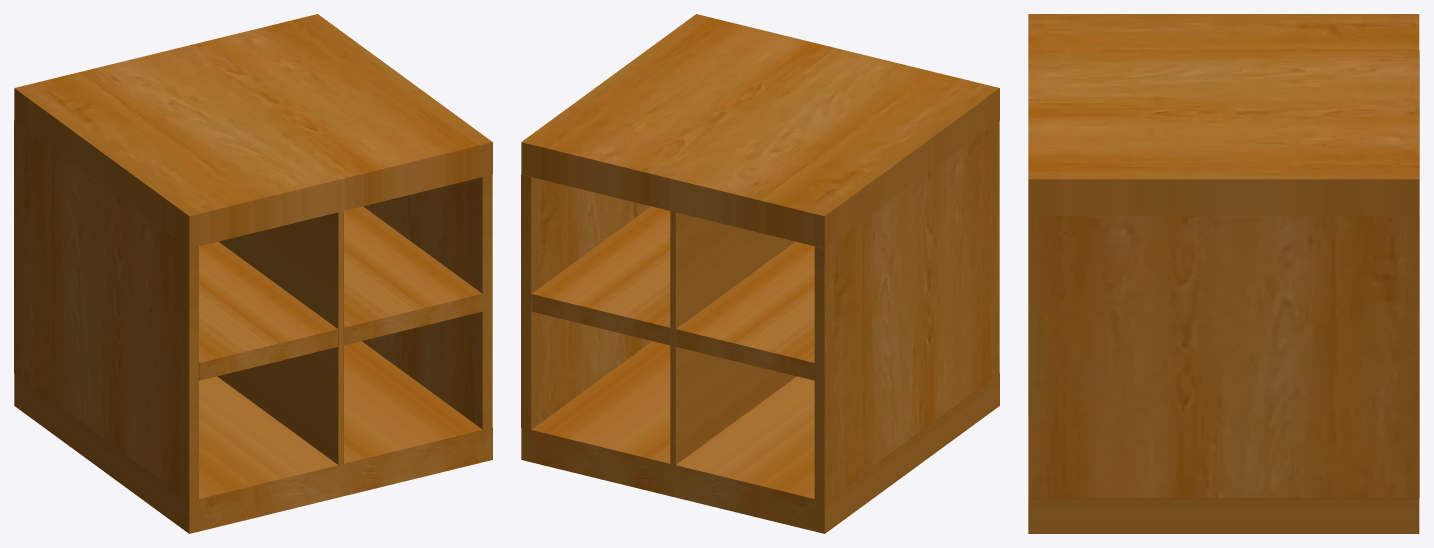
Rendered from sh-contrib-meuble-hi-fi-bas.glb.
The picture shows the model from 3 angles, left to right: view 1: azimuth 30°, elevation 25°; view 2: azimuth 150°, elevation 25°; view 3: azimuth 270°, elevation 25°; orthographic projection. The views are drawn at different scales.
Visible parts, largest first — view 1: Cube_1_1; view 2: Cube_1_1; view 3: Cube_1_1.
Boxes of the visible parts, x1=… form: Cube_1_1: x1=14, y1=14, x2=492, y2=533; Cube_1_1: x1=521, y1=14, x2=999, y2=533; Cube_1_1: x1=1028, y1=14, x2=1419, y2=533.
Size of what is drawn, in the model's own units: 1 by 1 by 1.
1 material, 1 textured.
